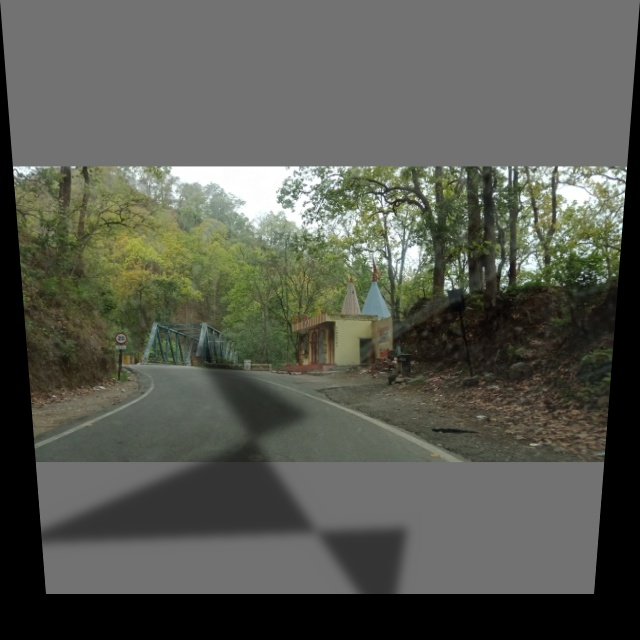Speed_Limit_20: (113, 329, 131, 346)
